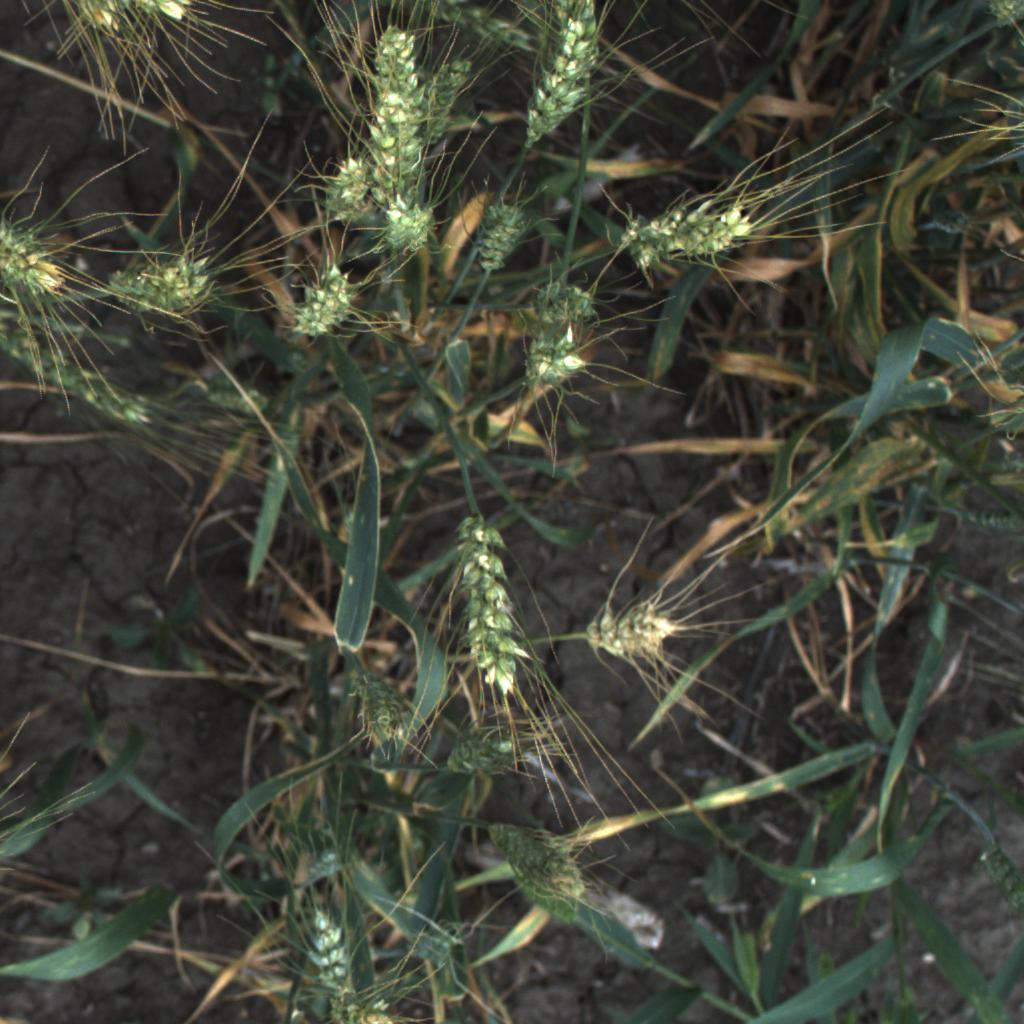0-0: (1, 326, 152, 429), (446, 504, 525, 699), (476, 814, 597, 916), (606, 197, 768, 272), (520, 13, 600, 155), (100, 247, 231, 329), (576, 590, 695, 667), (354, 87, 429, 190), (347, 665, 420, 761), (440, 720, 552, 781), (418, 0, 541, 55), (422, 46, 482, 151), (311, 153, 387, 233), (357, 16, 425, 103), (516, 327, 595, 400), (0, 220, 72, 300), (375, 185, 444, 268), (288, 260, 358, 341), (301, 900, 355, 1001), (471, 194, 530, 280), (62, 0, 142, 50), (529, 276, 604, 323), (140, 0, 212, 29), (331, 995, 398, 1024), (986, 0, 1024, 31)
